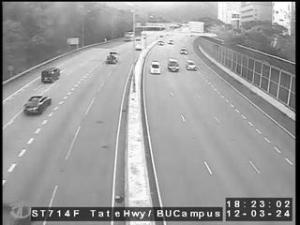bus: (135, 38, 141, 50), (125, 32, 133, 40)
truck: (42, 68, 61, 82)
vehicle: (24, 95, 53, 115), (42, 68, 61, 82), (105, 52, 119, 64), (168, 60, 180, 72), (150, 61, 160, 75), (186, 59, 196, 70), (180, 50, 188, 54), (168, 40, 173, 44), (159, 41, 163, 45)
